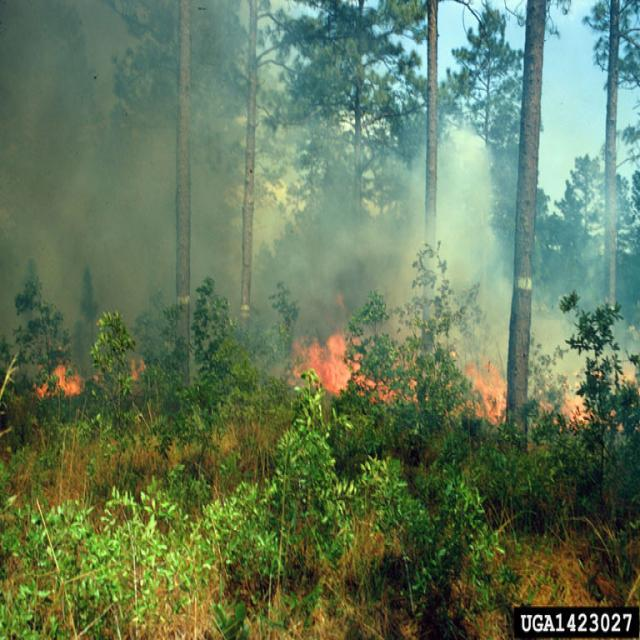Fire: (286, 332, 418, 408), (450, 348, 508, 429), (33, 344, 87, 400)
